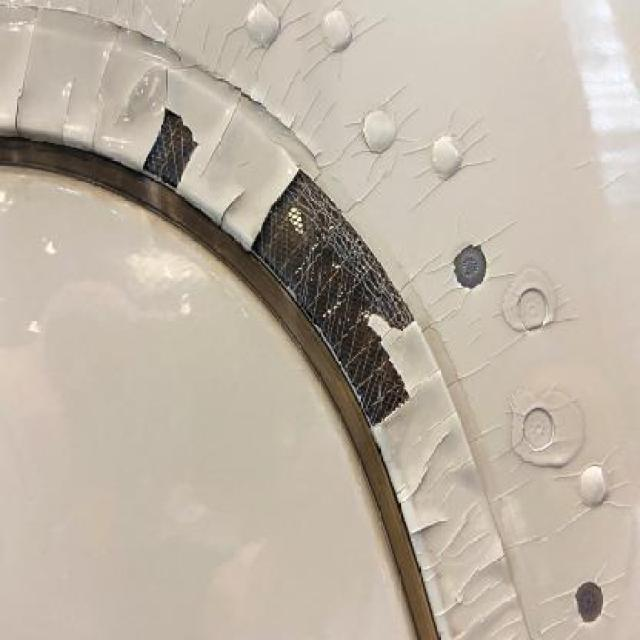crack: (33, 0, 325, 187), (398, 423, 458, 513), (86, 30, 120, 155), (111, 60, 170, 131), (9, 12, 40, 138), (214, 183, 249, 234), (56, 72, 79, 149), (405, 515, 452, 540)
